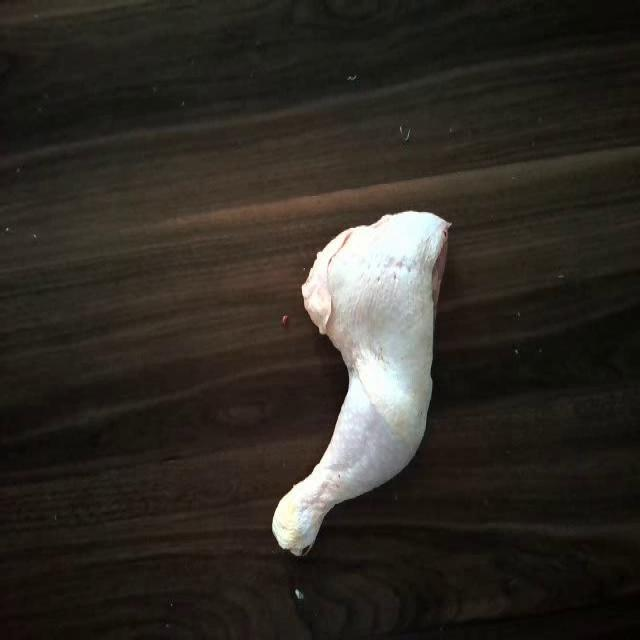quater: (270, 204, 446, 540)
